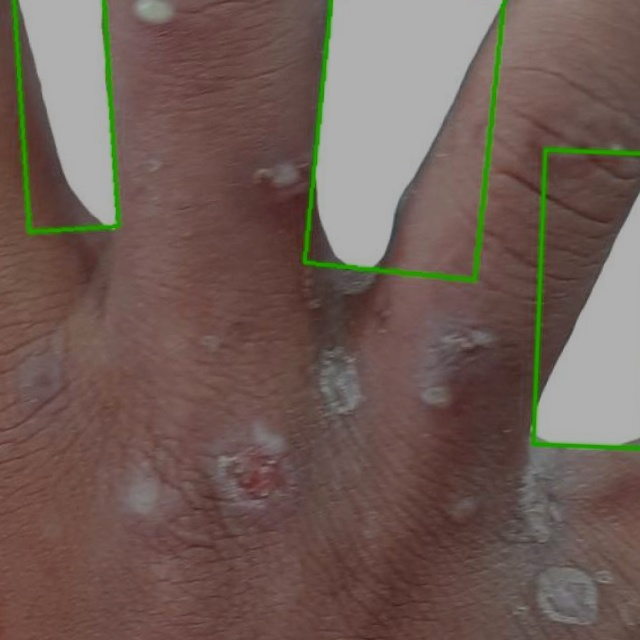Scabies: (303, 0, 503, 280), (532, 149, 639, 449), (13, 0, 118, 232)
